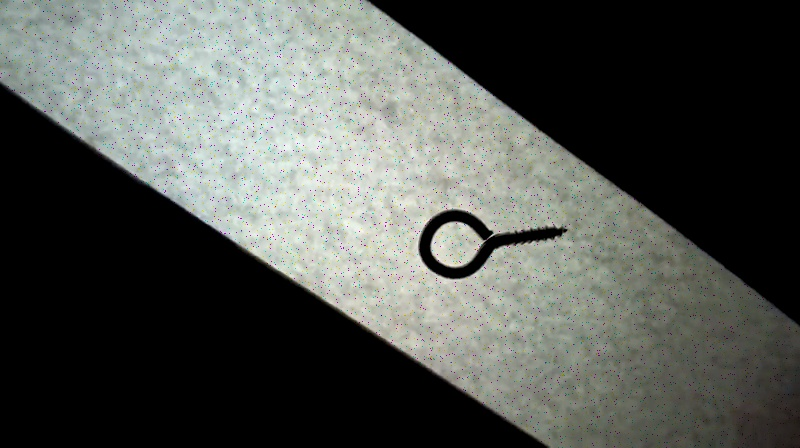O001: (416, 207, 569, 281)
